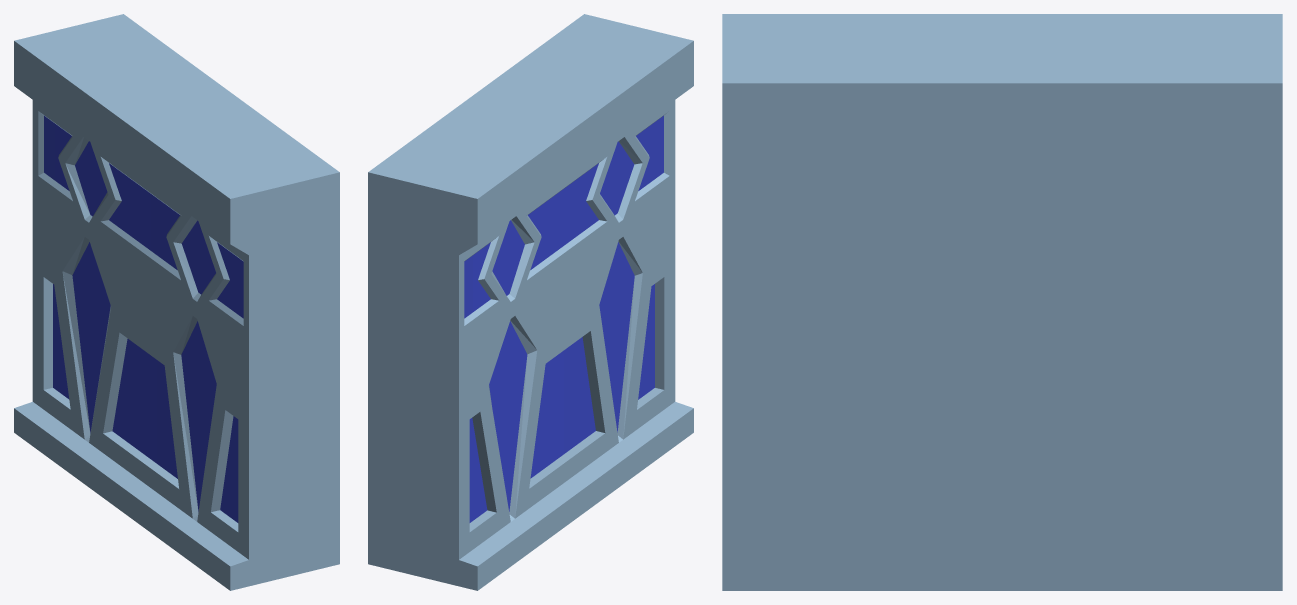
The model's file is EspacioRedSocialParedExteriorNI.gltf.
The picture shows the model from 3 angles, left to right: view 1: azimuth 30°, elevation 25°; view 2: azimuth 150°, elevation 25°; view 3: azimuth 270°, elevation 25°; orthographic projection. The views are drawn at different scales.
Visible parts, largest first — view 1: Cubo.23; view 2: Cubo.23; view 3: Cubo.23.
Part boxes in pixels (bbox=[...]): Cubo.23: bbox=[14, 14, 339, 590]; Cubo.23: bbox=[368, 14, 693, 590]; Cubo.23: bbox=[722, 14, 1282, 590].
Bounding box in the file's own units: 0.585 × 2 × 2.
1 material, 1 textured.
